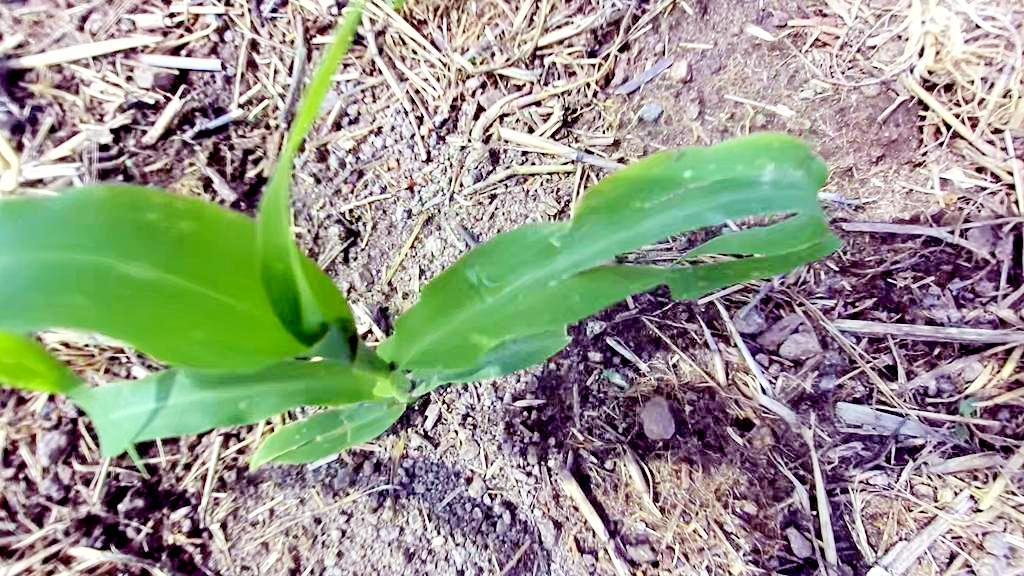BroWeed: (597, 366, 634, 393), (592, 545, 618, 576), (951, 420, 973, 445), (959, 397, 986, 417), (123, 155, 142, 182)
